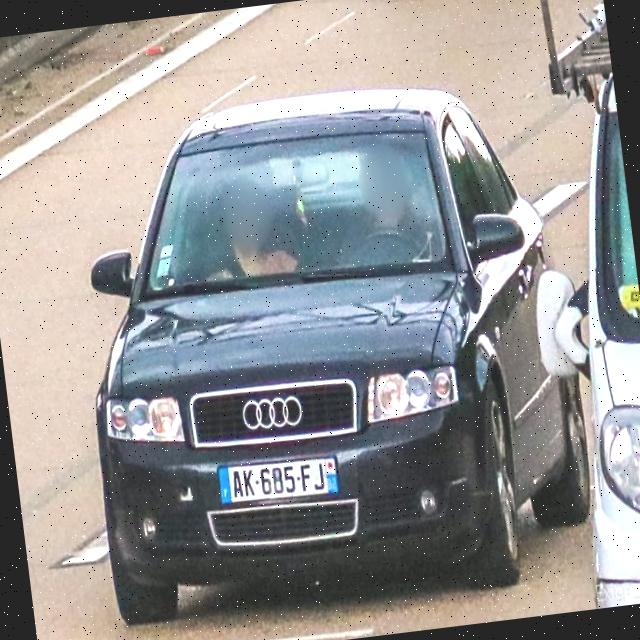EU: (216, 453, 340, 507)
France: (217, 466, 232, 504)
